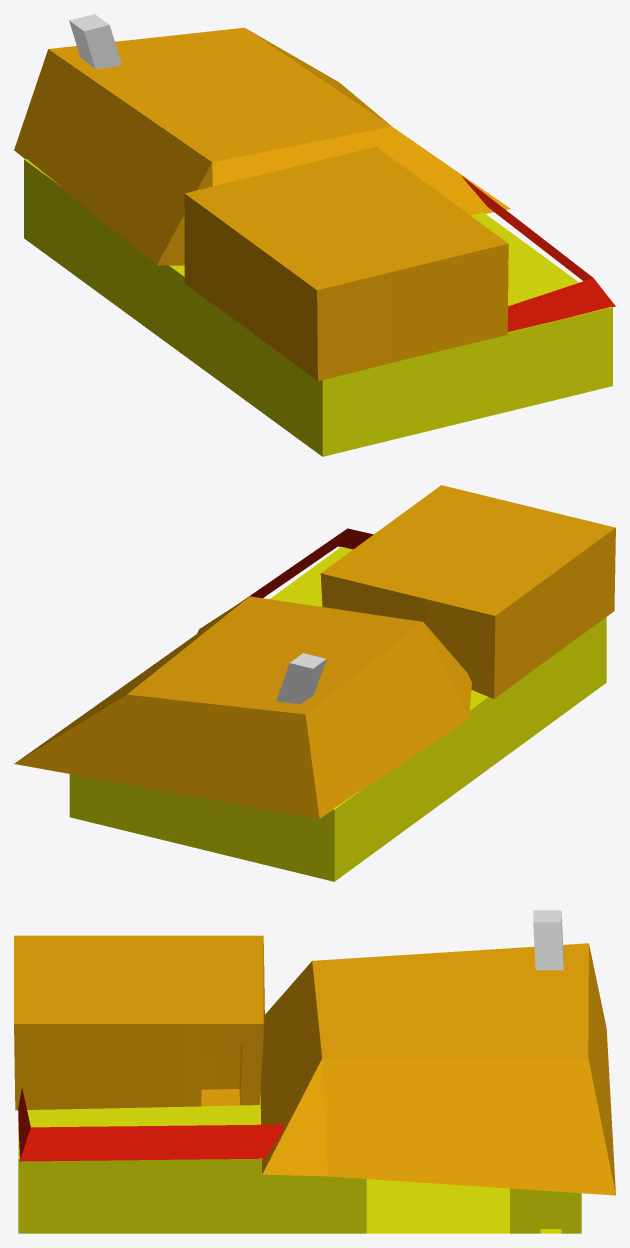
The model's file is house.fbx.
The picture shows the model from 3 angles, top to bottom: view 1: azimuth 30°, elevation 25°; view 2: azimuth 150°, elevation 25°; view 3: azimuth 270°, elevation 25°; orthographic projection. The views are drawn at different scales.
Parts seen in each view (by area): view 1: Cube.003, Cube.001, Cube, Plane.001, Cube.002; view 2: Cube.001, Cube.003, Cube, Cube.002, Plane.001; view 3: Cube.001, Cube.003, Cube, Plane.001, Cube.002.
Part boxes in pixels (x1,y1,x2,y2): Cube.003: (184,147,508,381); Cube.001: (14,27,510,265); Cube: (24,159,612,456); Plane.001: (462,176,615,331); Cube.002: (69,14,121,69); Cube.001: (14,596,471,818); Cube.003: (320,485,615,698); Cube: (69,546,606,881); Cube.002: (276,653,326,704); Plane.001: (243,528,373,600); Cube.001: (260,943,615,1195); Cube.003: (14,935,264,1110); Cube: (18,1093,581,1233); Plane.001: (18,1087,284,1161); Cube.002: (533,910,563,970).
Bounding box in the file's own units: 905 × 551 × 1466.
